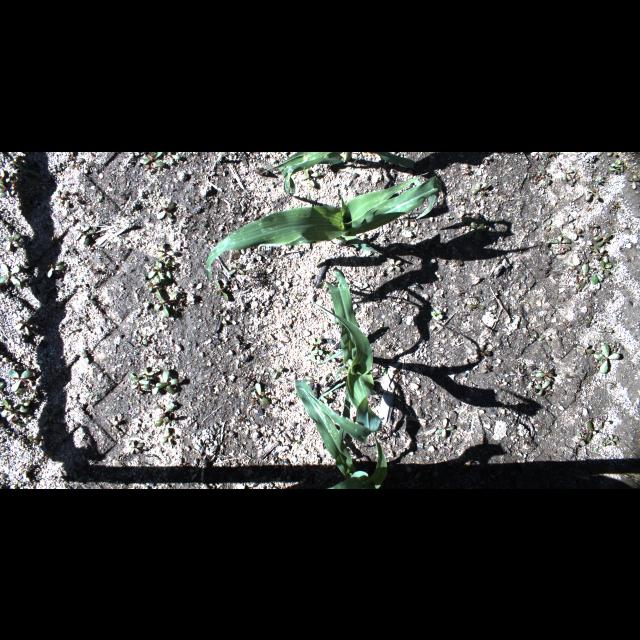crop: (205, 174, 442, 280), (299, 268, 383, 440), (295, 379, 387, 488), (260, 151, 416, 195)
weed: (13, 162, 41, 192), (594, 344, 620, 374), (146, 262, 180, 284), (152, 368, 178, 394), (155, 289, 181, 315), (8, 370, 38, 392), (1, 398, 27, 420), (0, 263, 20, 285), (548, 233, 570, 253), (434, 418, 454, 438), (464, 220, 484, 240), (39, 406, 61, 424), (74, 226, 96, 244), (140, 152, 167, 166), (130, 372, 148, 392), (578, 260, 590, 290), (532, 164, 550, 183), (302, 167, 320, 185), (46, 260, 66, 276), (254, 382, 268, 404), (214, 278, 228, 300), (157, 243, 175, 260), (156, 202, 174, 218), (576, 432, 592, 448), (535, 379, 551, 395), (68, 154, 86, 168), (6, 233, 20, 250), (144, 276, 160, 290), (594, 232, 610, 246), (161, 428, 173, 446), (468, 296, 486, 308), (12, 399, 30, 411), (228, 262, 246, 274), (627, 172, 639, 190), (576, 342, 594, 353), (430, 308, 444, 322), (56, 188, 70, 202), (472, 182, 488, 194), (158, 404, 174, 416), (270, 365, 282, 379), (388, 257, 400, 271), (0, 182, 12, 196), (18, 198, 30, 212), (596, 416, 610, 428), (604, 433, 618, 445), (600, 260, 612, 274), (592, 269, 604, 283), (586, 186, 600, 198), (536, 368, 554, 377), (26, 432, 42, 442), (166, 152, 182, 162), (566, 173, 580, 184), (131, 442, 143, 454), (311, 348, 323, 360), (461, 217, 485, 223), (592, 247, 604, 259), (310, 337, 320, 351), (144, 367, 154, 381), (14, 186, 28, 196), (594, 437, 604, 451), (305, 374, 321, 382), (586, 422, 592, 442), (612, 159, 624, 169), (156, 418, 170, 426), (608, 165, 622, 173), (326, 351, 336, 361), (588, 220, 598, 230), (603, 252, 613, 262), (563, 169, 573, 179), (110, 416, 118, 428), (538, 332, 550, 340), (564, 374, 578, 380), (615, 340, 623, 350), (612, 200, 620, 210), (573, 228, 581, 238), (585, 315, 591, 327), (545, 218, 551, 230), (596, 328, 614, 332), (576, 268, 580, 286), (531, 152, 543, 158), (380, 367, 388, 375), (0, 169, 6, 179), (608, 344, 616, 351), (545, 152, 559, 156), (520, 358, 526, 366), (595, 175, 601, 182), (447, 215, 453, 219), (607, 152, 617, 154)
